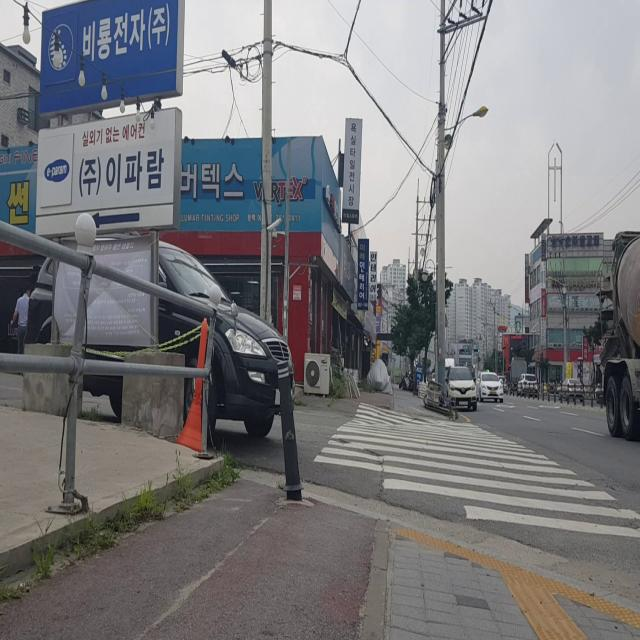횡단보도: (312, 398, 640, 542)
